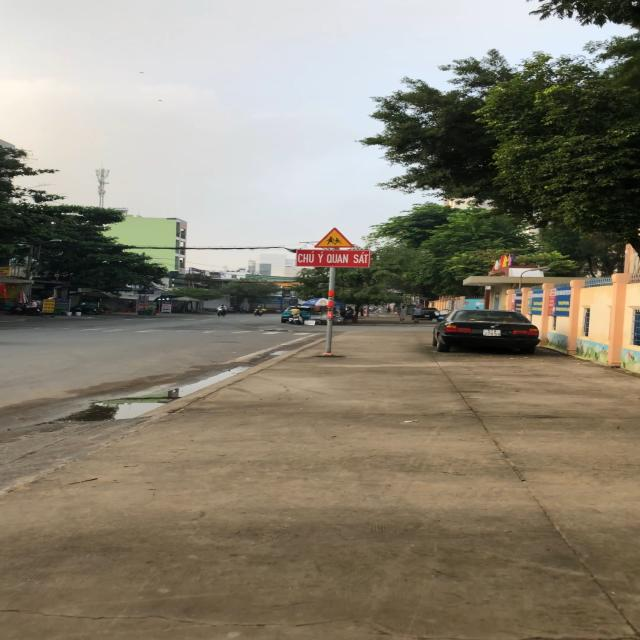Bien bao tre em: (314, 227, 358, 249)
